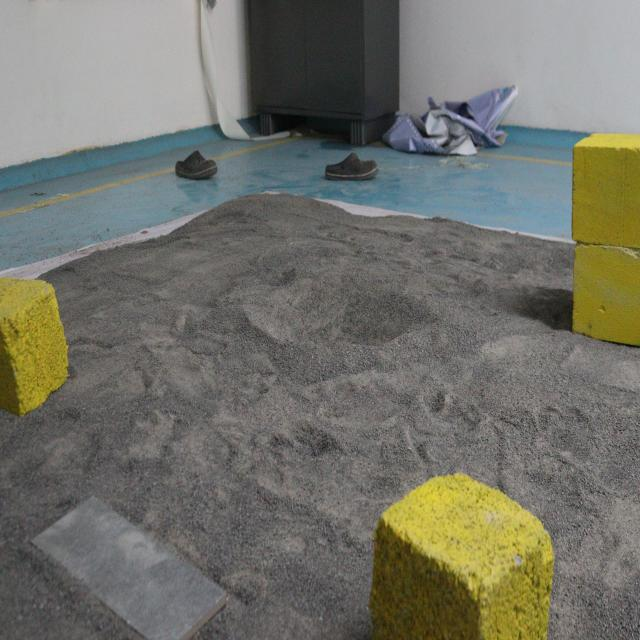box: (367, 456, 568, 640), (561, 127, 640, 360), (0, 267, 71, 417)
crater: (232, 261, 435, 361)
